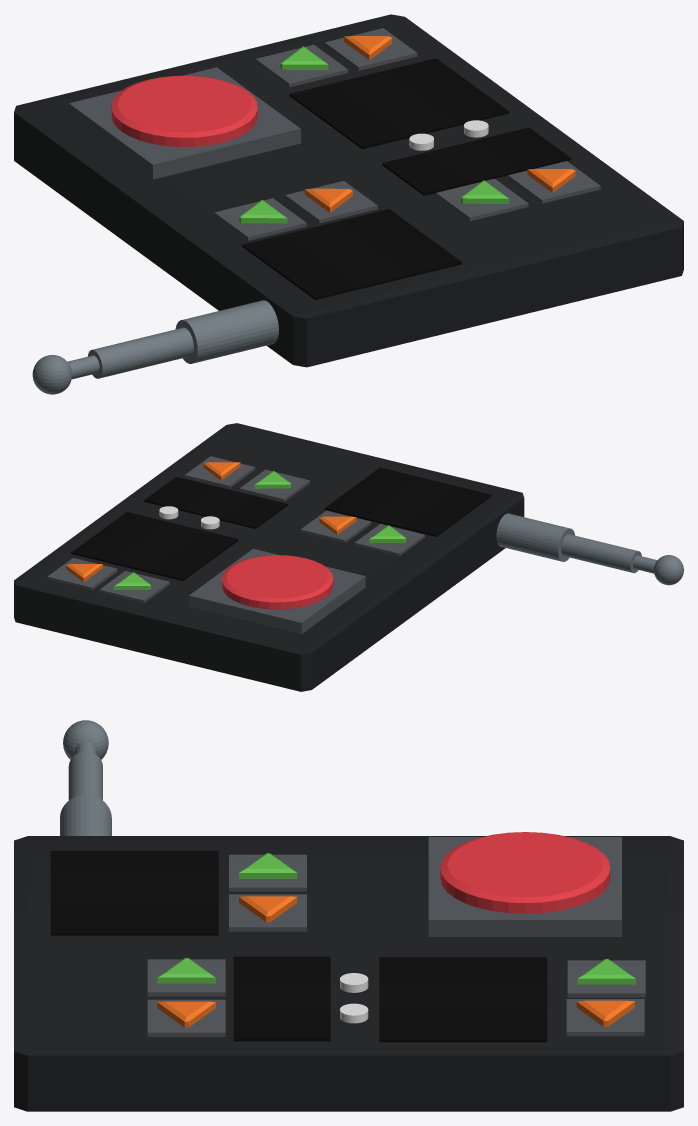
Rendered from Controller.fbx.
3 views of the same model, one above another, from view 1: azimuth 30°, elevation 25°; view 2: azimuth 150°, elevation 25°; view 3: azimuth 270°, elevation 25° (orthographic). The views are drawn at different scales.
Visible parts, largest first — view 1: Body, Display, Display.002, Cylinder, Antenna, FireButton, Display.001, UpButton, UpButton.002, UpButton.001, DownButton.002, DownButton (+8 smaller); view 2: Body, Display, Display.002, Cylinder, Antenna, FireButton, Display.001, UpButton.002, DownButton.002, UpButton, UpButton.001, DownButton (+8 smaller); view 3: Body, Display, Display.002, Cylinder, FireButton, Display.001, Antenna, UpButton.001, UpButton.002, DownButton.002, DownButton.001, DownButton (+8 smaller).
Part boxes in pixels (x1,y1,x2,y2): Body: [14, 14, 683, 367]; Display: [242, 209, 462, 299]; Display.002: [289, 58, 509, 149]; Cylinder: [111, 75, 257, 146]; Antenna: [67, 300, 278, 379]; FireButton: [69, 67, 300, 179]; Display.001: [382, 127, 571, 195]; UpButton: [214, 198, 306, 240]; UpButton.002: [436, 178, 528, 221]; UpButton.001: [255, 44, 347, 87]; DownButton.002: [508, 161, 600, 203]; DownButton: [285, 181, 377, 223]; Body: [14, 423, 524, 691]; Display: [324, 467, 491, 536]; Display.002: [71, 512, 238, 580]; Cylinder: [222, 555, 333, 609]; Antenna: [496, 513, 657, 573]; FireButton: [189, 548, 365, 634]; Display.001: [144, 477, 287, 528]; UpButton.002: [239, 469, 309, 501]; DownButton.002: [184, 456, 255, 488]; UpButton: [354, 524, 424, 556]; UpButton.001: [99, 571, 169, 603]; DownButton: [300, 510, 370, 542]; Body: [14, 836, 683, 1111]; Display: [50, 850, 218, 935]; Display.002: [379, 957, 547, 1042]; Cylinder: [440, 832, 610, 913]; FireButton: [428, 837, 621, 936]; Display.001: [233, 956, 330, 1041]; Antenna: [60, 742, 111, 835]; UpButton.001: [567, 960, 645, 997]; UpButton.002: [147, 959, 225, 996]; DownButton.002: [147, 999, 225, 1036]; DownButton.001: [566, 999, 644, 1036]; DownButton: [229, 894, 306, 931].
Bounding box in the file's own units: 31.89 × 3.78 × 25.77.
